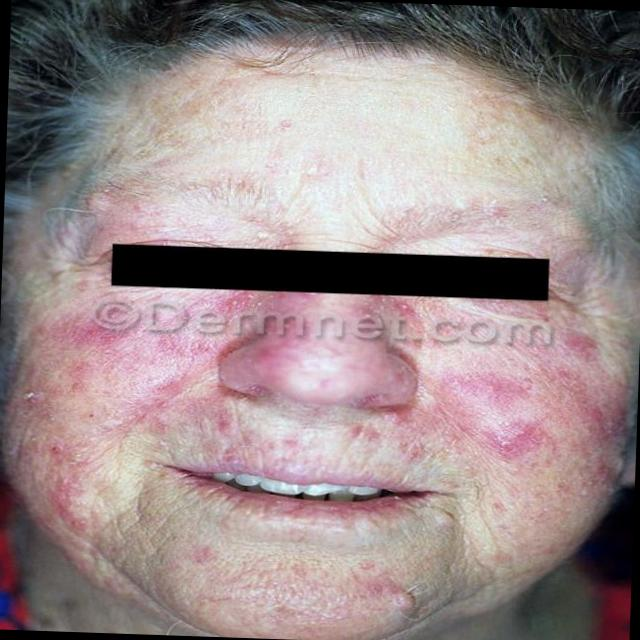skinredness: (0, 130, 640, 541)
